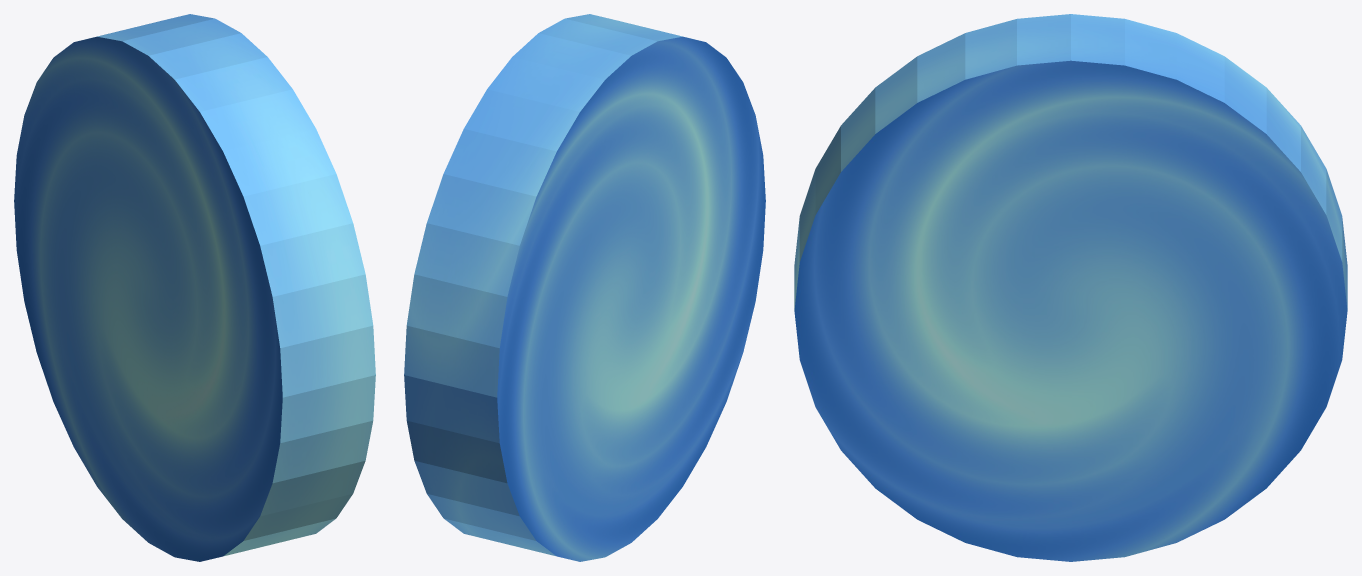
File: warp.fbx
The picture shows the model from 3 angles, left to right: view 1: azimuth 30°, elevation 25°; view 2: azimuth 150°, elevation 25°; view 3: azimuth 270°, elevation 25°; orthographic projection. The views are drawn at different scales.
Parts seen in each view (by area): view 1: 円柱; view 2: 円柱; view 3: 円柱.
Part boxes in pixels (bbox=[...]): 円柱: bbox=[14, 14, 375, 561]; 円柱: bbox=[404, 14, 765, 561]; 円柱: bbox=[794, 14, 1347, 561].
Size of the model in its own units: 200 by 200 by 40.
Materials: 1 (1 with a texture image).
